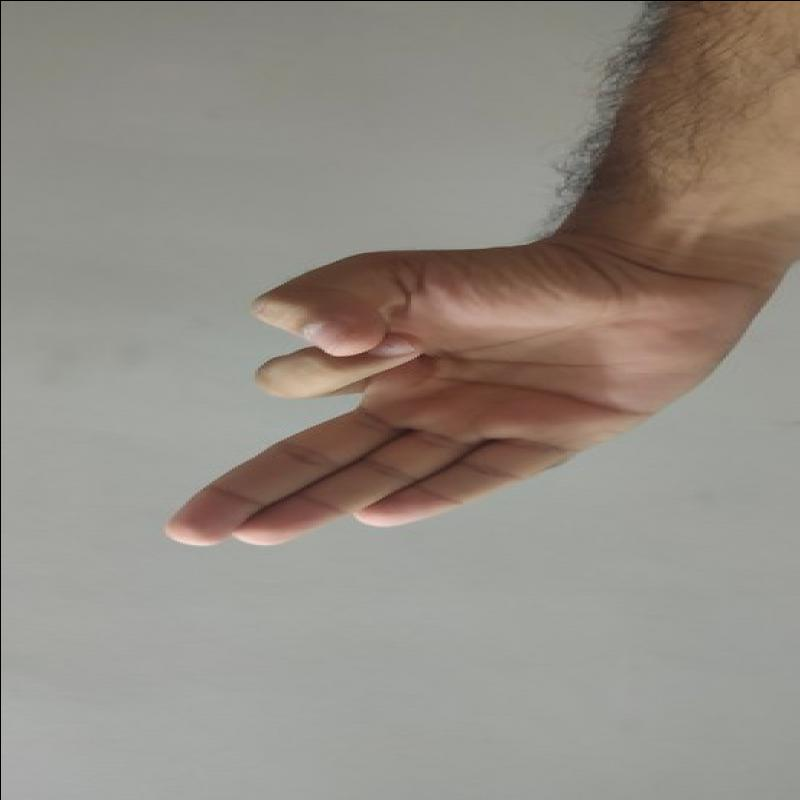Mudraakhyam: (62, 245, 757, 566)
